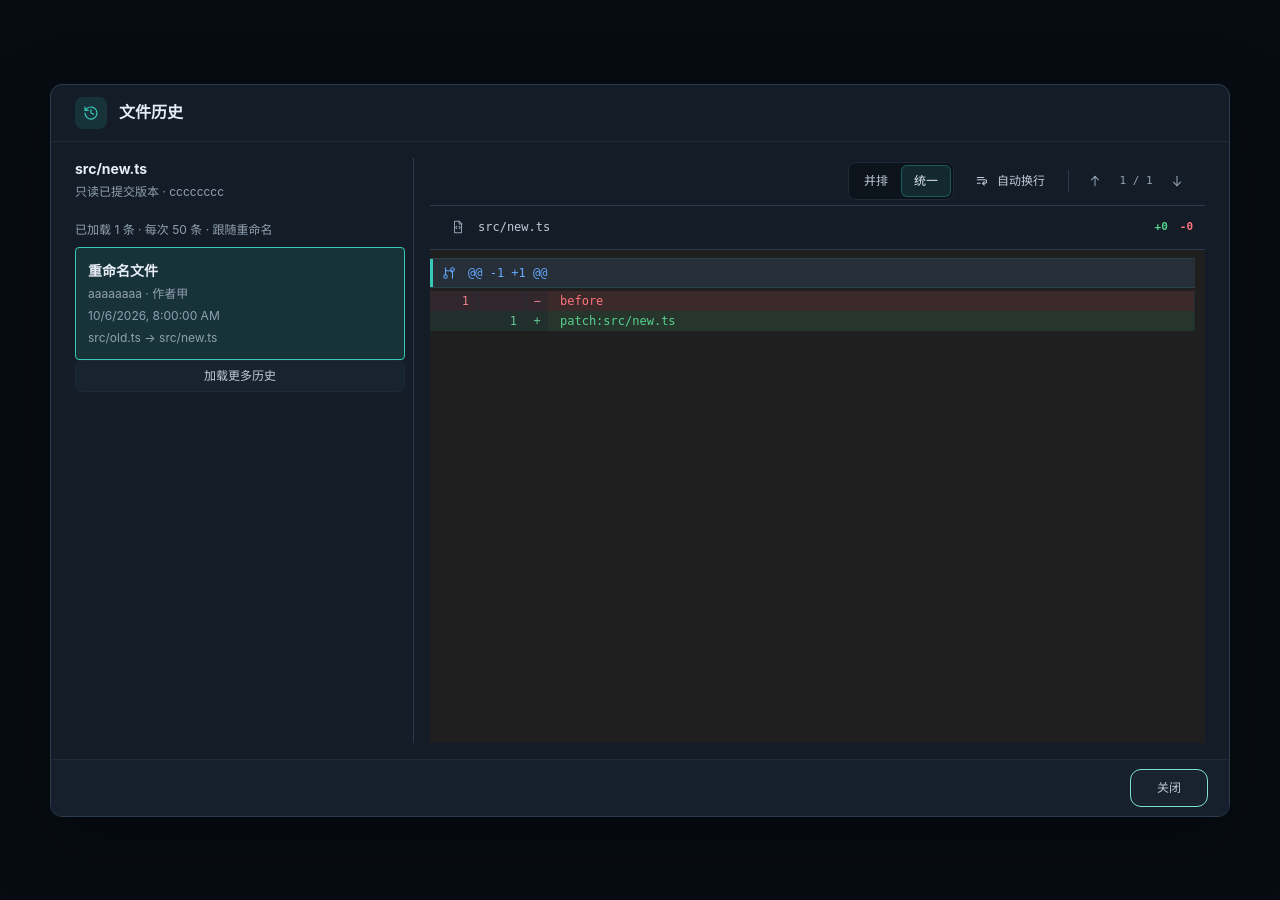
FileHistoryDialog › keeps a failed next page retryable without losing previous entries or changing the revision
The width and height of the screenshot is (1280, 900).
Click the button "加载更多历史". click: (240, 376)
box: [75,360,405,392]
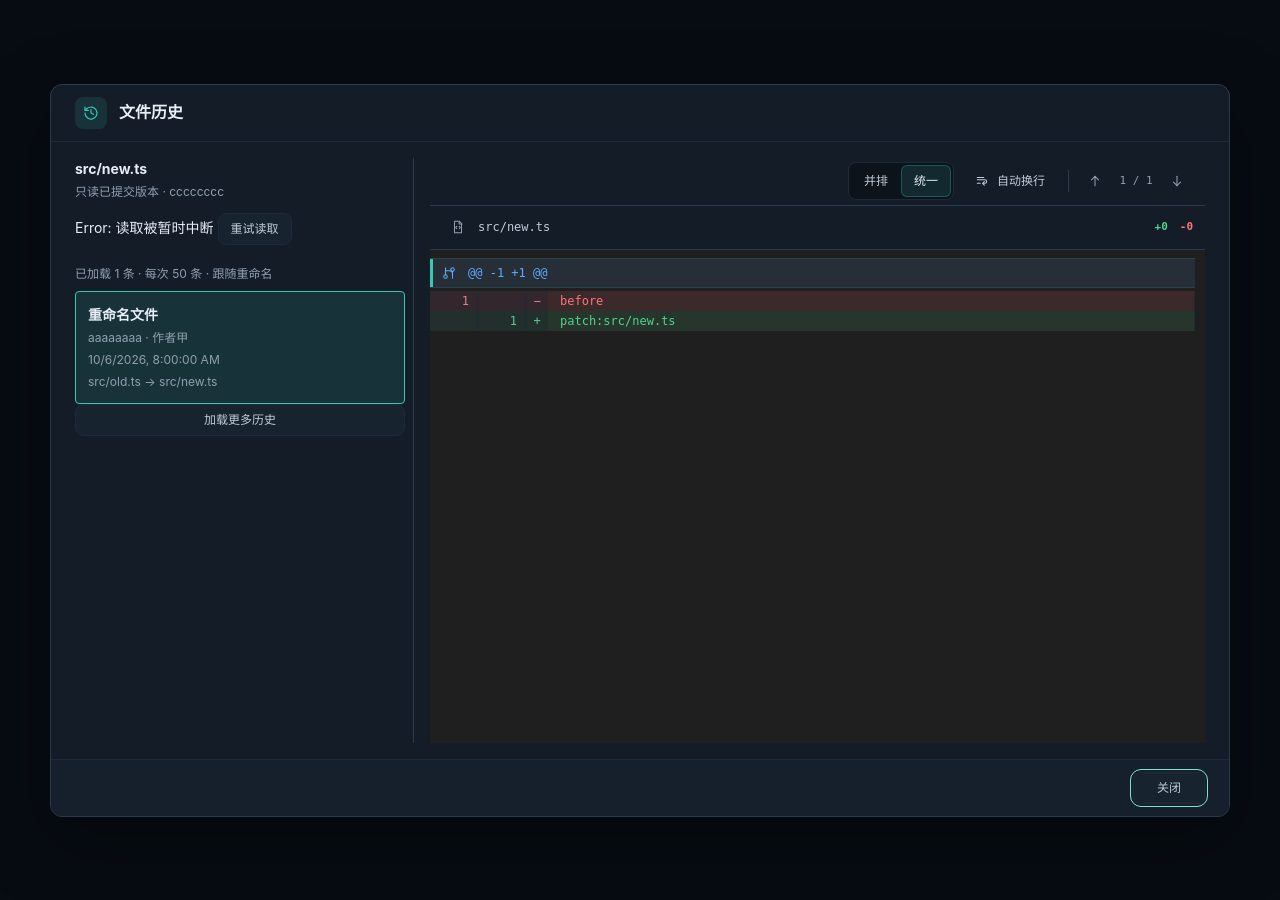
Expected: the number of buttons with class "file-history-entry" is 1, [75,290,405,404]
Now the text "读取被暂时中断" is shown, box [75,218,214,236]
Click the button "重试读取". click: (254, 228)
box: [218,212,292,244]
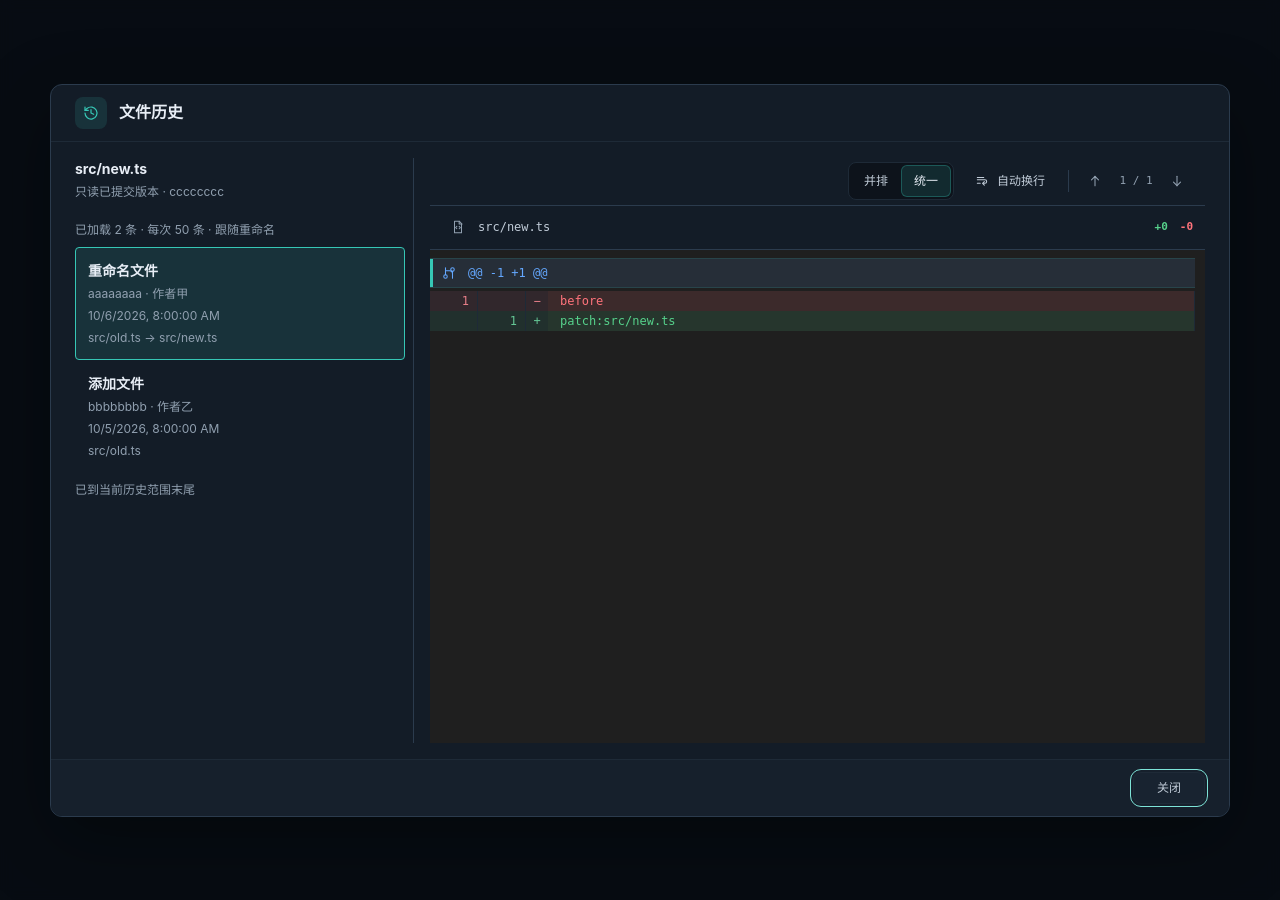
Now the number of buttons with class "file-history-entry" is 2, box [75,246,405,360]; [75,360,405,472]
